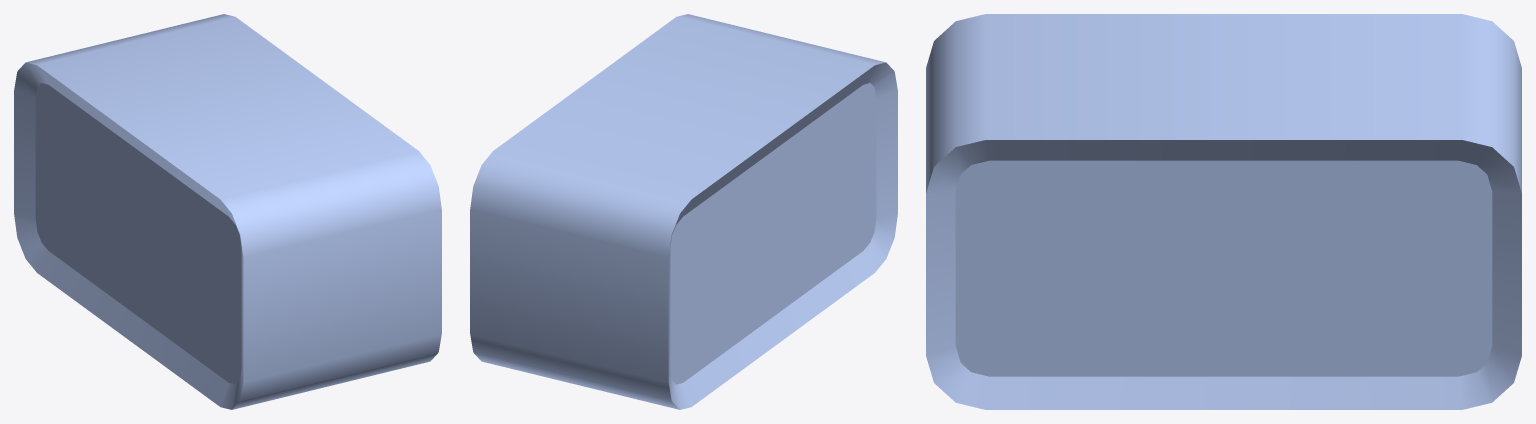
File: cube_aaa.glb
3 views of the same model, side by side, from view 1: azimuth 30°, elevation 25°; view 2: azimuth 150°, elevation 25°; view 3: azimuth 270°, elevation 25° (orthographic). The views are drawn at different scales.
Visible parts, largest first — view 1: cube_aaa_mesh; view 2: cube_aaa_mesh; view 3: cube_aaa_mesh.
Part boxes in pixels (x1,y1,x2,y2): cube_aaa_mesh: [14, 14, 441, 409]; cube_aaa_mesh: [470, 14, 897, 409]; cube_aaa_mesh: [926, 14, 1521, 409].
Bounding box in the file's own units: 2 × 2 × 4.
